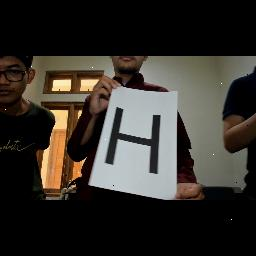h: (98, 104, 168, 180)
